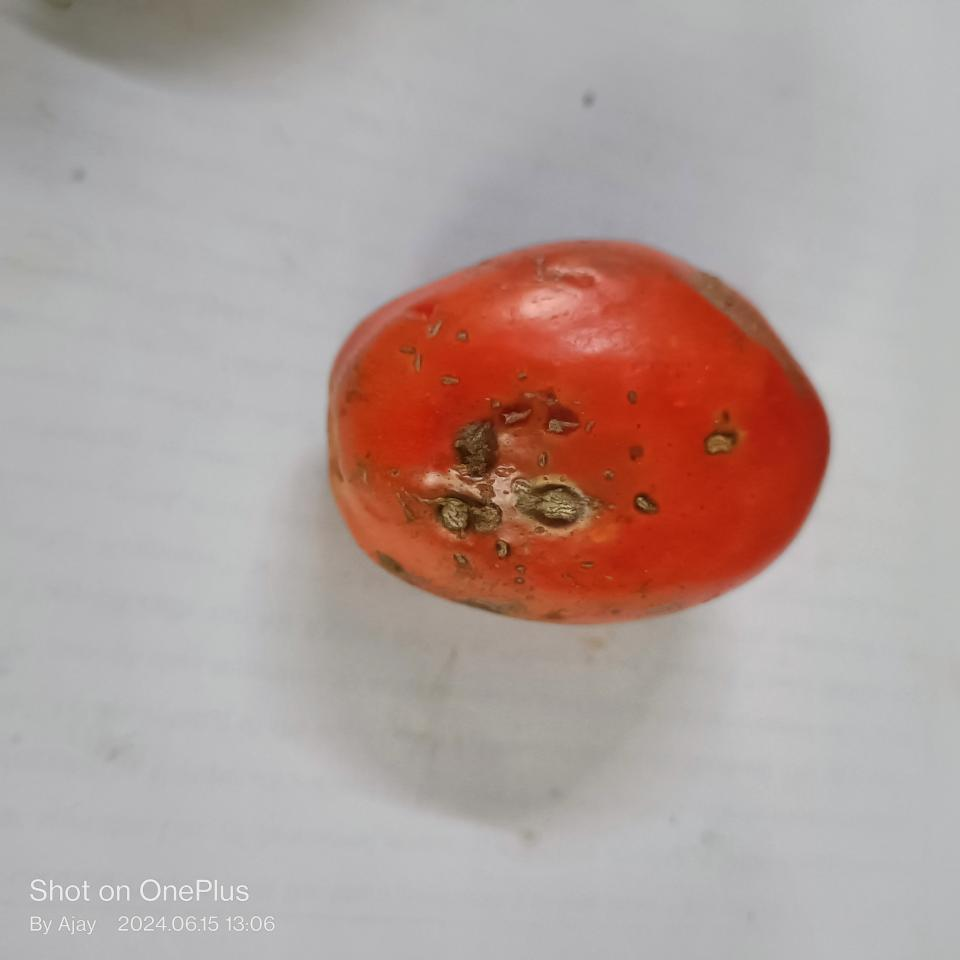Bacterial_Spot: (423, 380, 606, 552), (693, 422, 746, 466), (632, 483, 654, 523)
